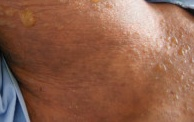SJS-TEN: (132, 17, 194, 122), (0, 0, 40, 42), (70, 0, 118, 17)
